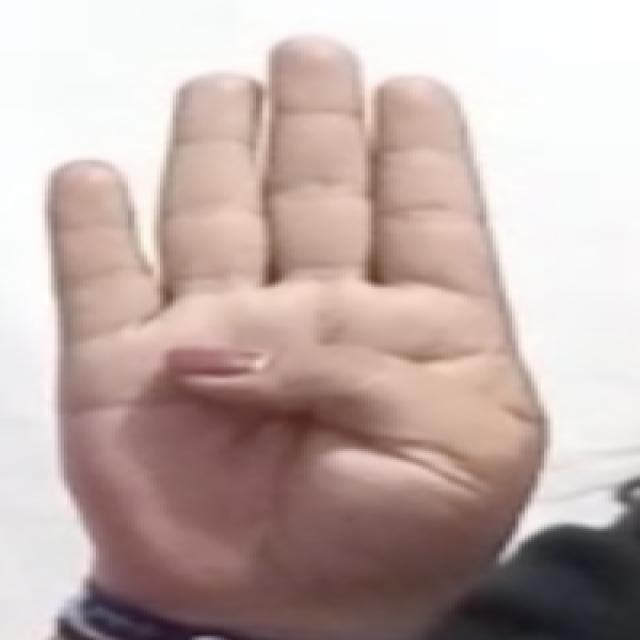B: (39, 23, 555, 599)
